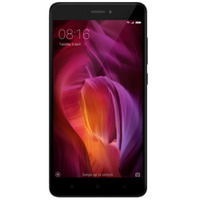mobile: (27, 2, 167, 200)
